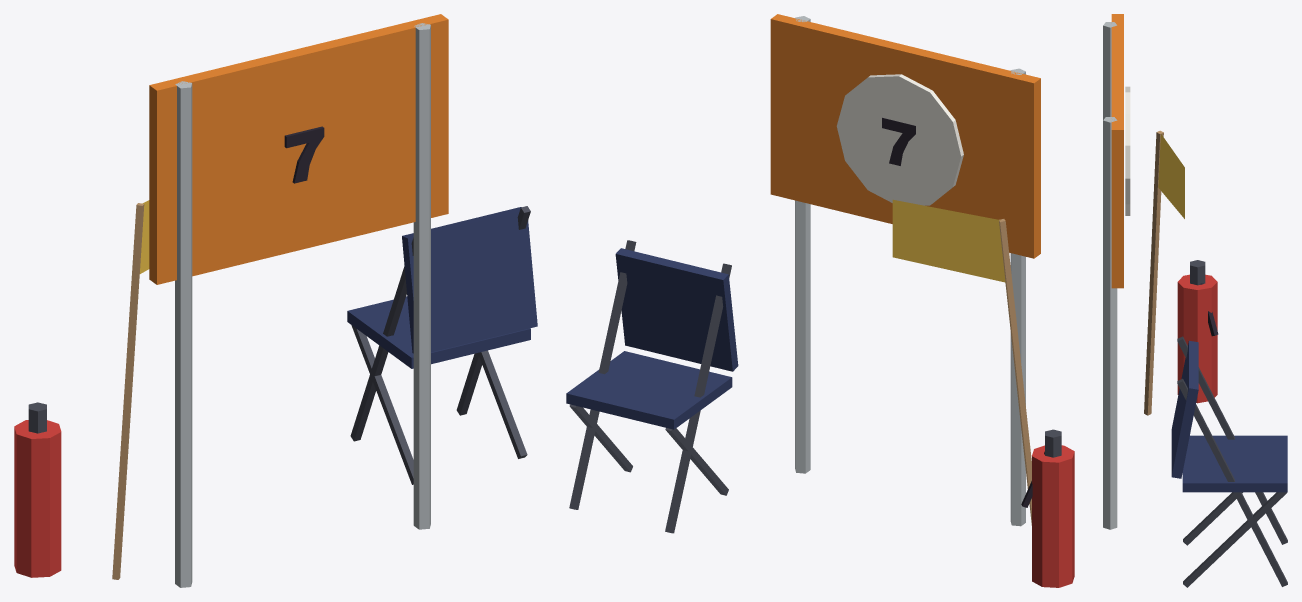
Rendered from marshal_post.glb.
3 views of the same model, side by side, from view 1: azimuth 30°, elevation 25°; view 2: azimuth 150°, elevation 25°; view 3: azimuth 270°, elevation 25° (orthographic). The views are drawn at different scales.
Visible parts, largest first — view 1: marshal_post; view 2: marshal_post; view 3: marshal_post.
Part boxes in pixels (x1,y1,x2,y2): marshal_post: (14, 14, 537, 587); marshal_post: (566, 14, 1074, 587); marshal_post: (1103, 14, 1287, 587).
Size of the model in its own units: 1.9 by 1.81 by 0.7399.
